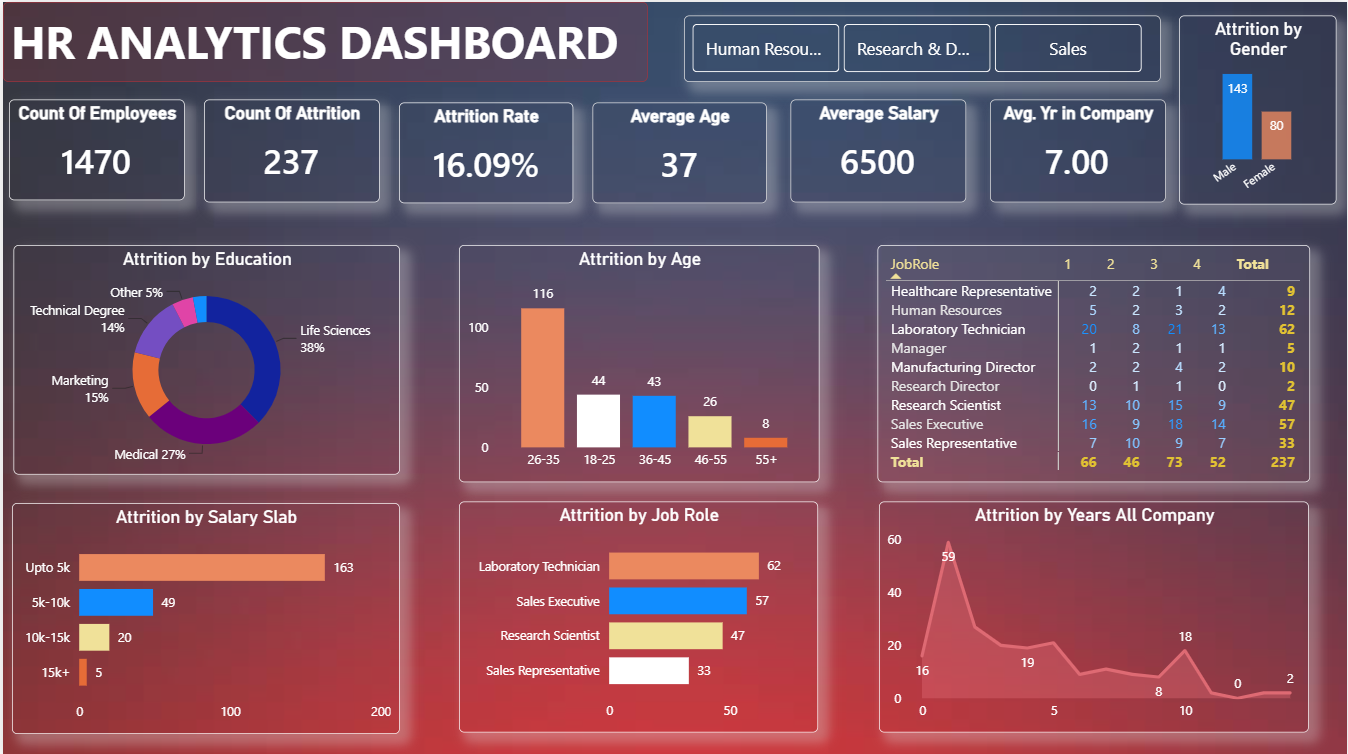

What the dashboard file says about the page in this screenshot:
{"tool":"powerbi","page":{"name":"Page 1","canvas":[1280,720],"ordinal":0},"visuals":[{"type":"cardVisual","title":"Count Of Employees","fields":{"Data":["Count(HR_Analytics.EmpID)"]},"box":[6.3,93.2,167.4,96.3],"z":0},{"type":"cardVisual","title":"Attrition Rate","fields":{"Data":["HR_Analytics.Attrition_rate"]},"box":[377.4,96.3,165.8,96.3],"z":1000},{"type":"cardVisual","title":"Average Age","fields":{"Data":["Avg(HR_Analytics.Age)"]},"box":[562.1,96.3,165.8,96.3],"z":2000},{"type":"cardVisual","title":"Count Of Attrition","fields":{"Data":["Sum(HR_Analytics.Attrition_count)"]},"box":[191.1,93.2,167.4,97.9],"z":3000},{"type":"cardVisual","title":"Avg. Yr in Company","fields":{"Data":["Avg(HR_Analytics.YearsAtCompany)"]},"box":[939.5,93.2,167.4,97.9],"z":4000},{"type":"cardVisual","title":"Average Salary","fields":{"Data":["Avg(HR_Analytics.MonthlyIncome)"]},"box":[750,93.2,167.4,97.9],"z":5000},{"type":"donutChart","title":"Attrition by Education","fields":{"Category":["HR_Analytics.EducationField"],"Y":["Sum(HR_Analytics.Attrition_count)"]},"box":[9.5,231.1,367.7,219],"z":6000},{"type":"clusteredColumnChart","title":"Attrition by Age","fields":{"Category":["HR_Analytics.AgeGroup"],"Y":["Sum(HR_Analytics.Attrition_count)"]},"box":[433.9,231.1,343.3,225.7],"z":7000},{"type":"pivotTable","fields":{"Values":["Sum(HR_Analytics.Attrition_count)"],"Rows":["HR_Analytics.JobRole"],"Columns":["HR_Analytics.JobSatisfaction"]},"box":[832.7,231.1,412.3,225.7],"z":8000},{"type":"clusteredBarChart","title":"Attrition by Salary Slab","fields":{"Category":["HR_Analytics.SalarySlab"],"Y":["Sum(HR_Analytics.Attrition_count)"]},"box":[8.1,477.2,369,220.3],"z":9000},{"type":"areaChart","title":"Attrition by Years All Company","fields":{"Category":["HR_Analytics.YearsAtCompany"],"Y":["Sum(HR_Analytics.Attrition_count)"]},"box":[834,475.8,409.6,220.3],"z":10000},{"type":"clusteredBarChart","title":"Attrition by Job Role","fields":{"Y":["Sum(HR_Analytics.Attrition_count)"],"Category":["HR_Analytics.JobRole"]},"box":[433.9,475.8,342,220.3],"z":11000},{"type":"lineStackedColumnComboChart","title":"Attrition by Gender","fields":{"Category":["HR_Analytics.Gender"],"Y":["Sum(HR_Analytics.Attrition_count)"]},"box":[1119.5,12.6,161.1,180],"z":12000},{"type":"textbox","box":[0,0,613.7,75.7],"z":13000},{"type":"advancedSlicerVisual","fields":{"Values":["HR_Analytics.Department"]},"box":[648.8,12.2,454.2,63.5],"z":13001}]}

Visuals, with their boxes in screenshot pixels (x1, y1, x2, y2), scaled from the page's 1280x720 canvas onto the 1348x754 screenshot:
"Count Of Employees" cardVisual: BBox(7, 98, 183, 198)
"Attrition Rate" cardVisual: BBox(397, 101, 572, 202)
"Average Age" cardVisual: BBox(592, 101, 767, 202)
"Count Of Attrition" cardVisual: BBox(201, 98, 378, 200)
"Avg. Yr in Company" cardVisual: BBox(989, 98, 1166, 200)
"Average Salary" cardVisual: BBox(790, 98, 966, 200)
"Attrition by Education" donutChart: BBox(10, 242, 397, 471)
"Attrition by Age" clusteredColumnChart: BBox(457, 242, 818, 478)
pivotTable - Sum(HR_Analytics.Attrition_count) x HR_Analytics.JobRole: BBox(877, 242, 1311, 478)
"Attrition by Salary Slab" clusteredBarChart: BBox(9, 500, 397, 730)
"Attrition by Years All Company" areaChart: BBox(878, 498, 1310, 729)
"Attrition by Job Role" clusteredBarChart: BBox(457, 498, 817, 729)
"Attrition by Gender" lineStackedColumnComboChart: BBox(1179, 13, 1347, 202)
textbox: BBox(0, 0, 646, 79)
advancedSlicerVisual - HR_Analytics.Department: BBox(683, 13, 1162, 79)
